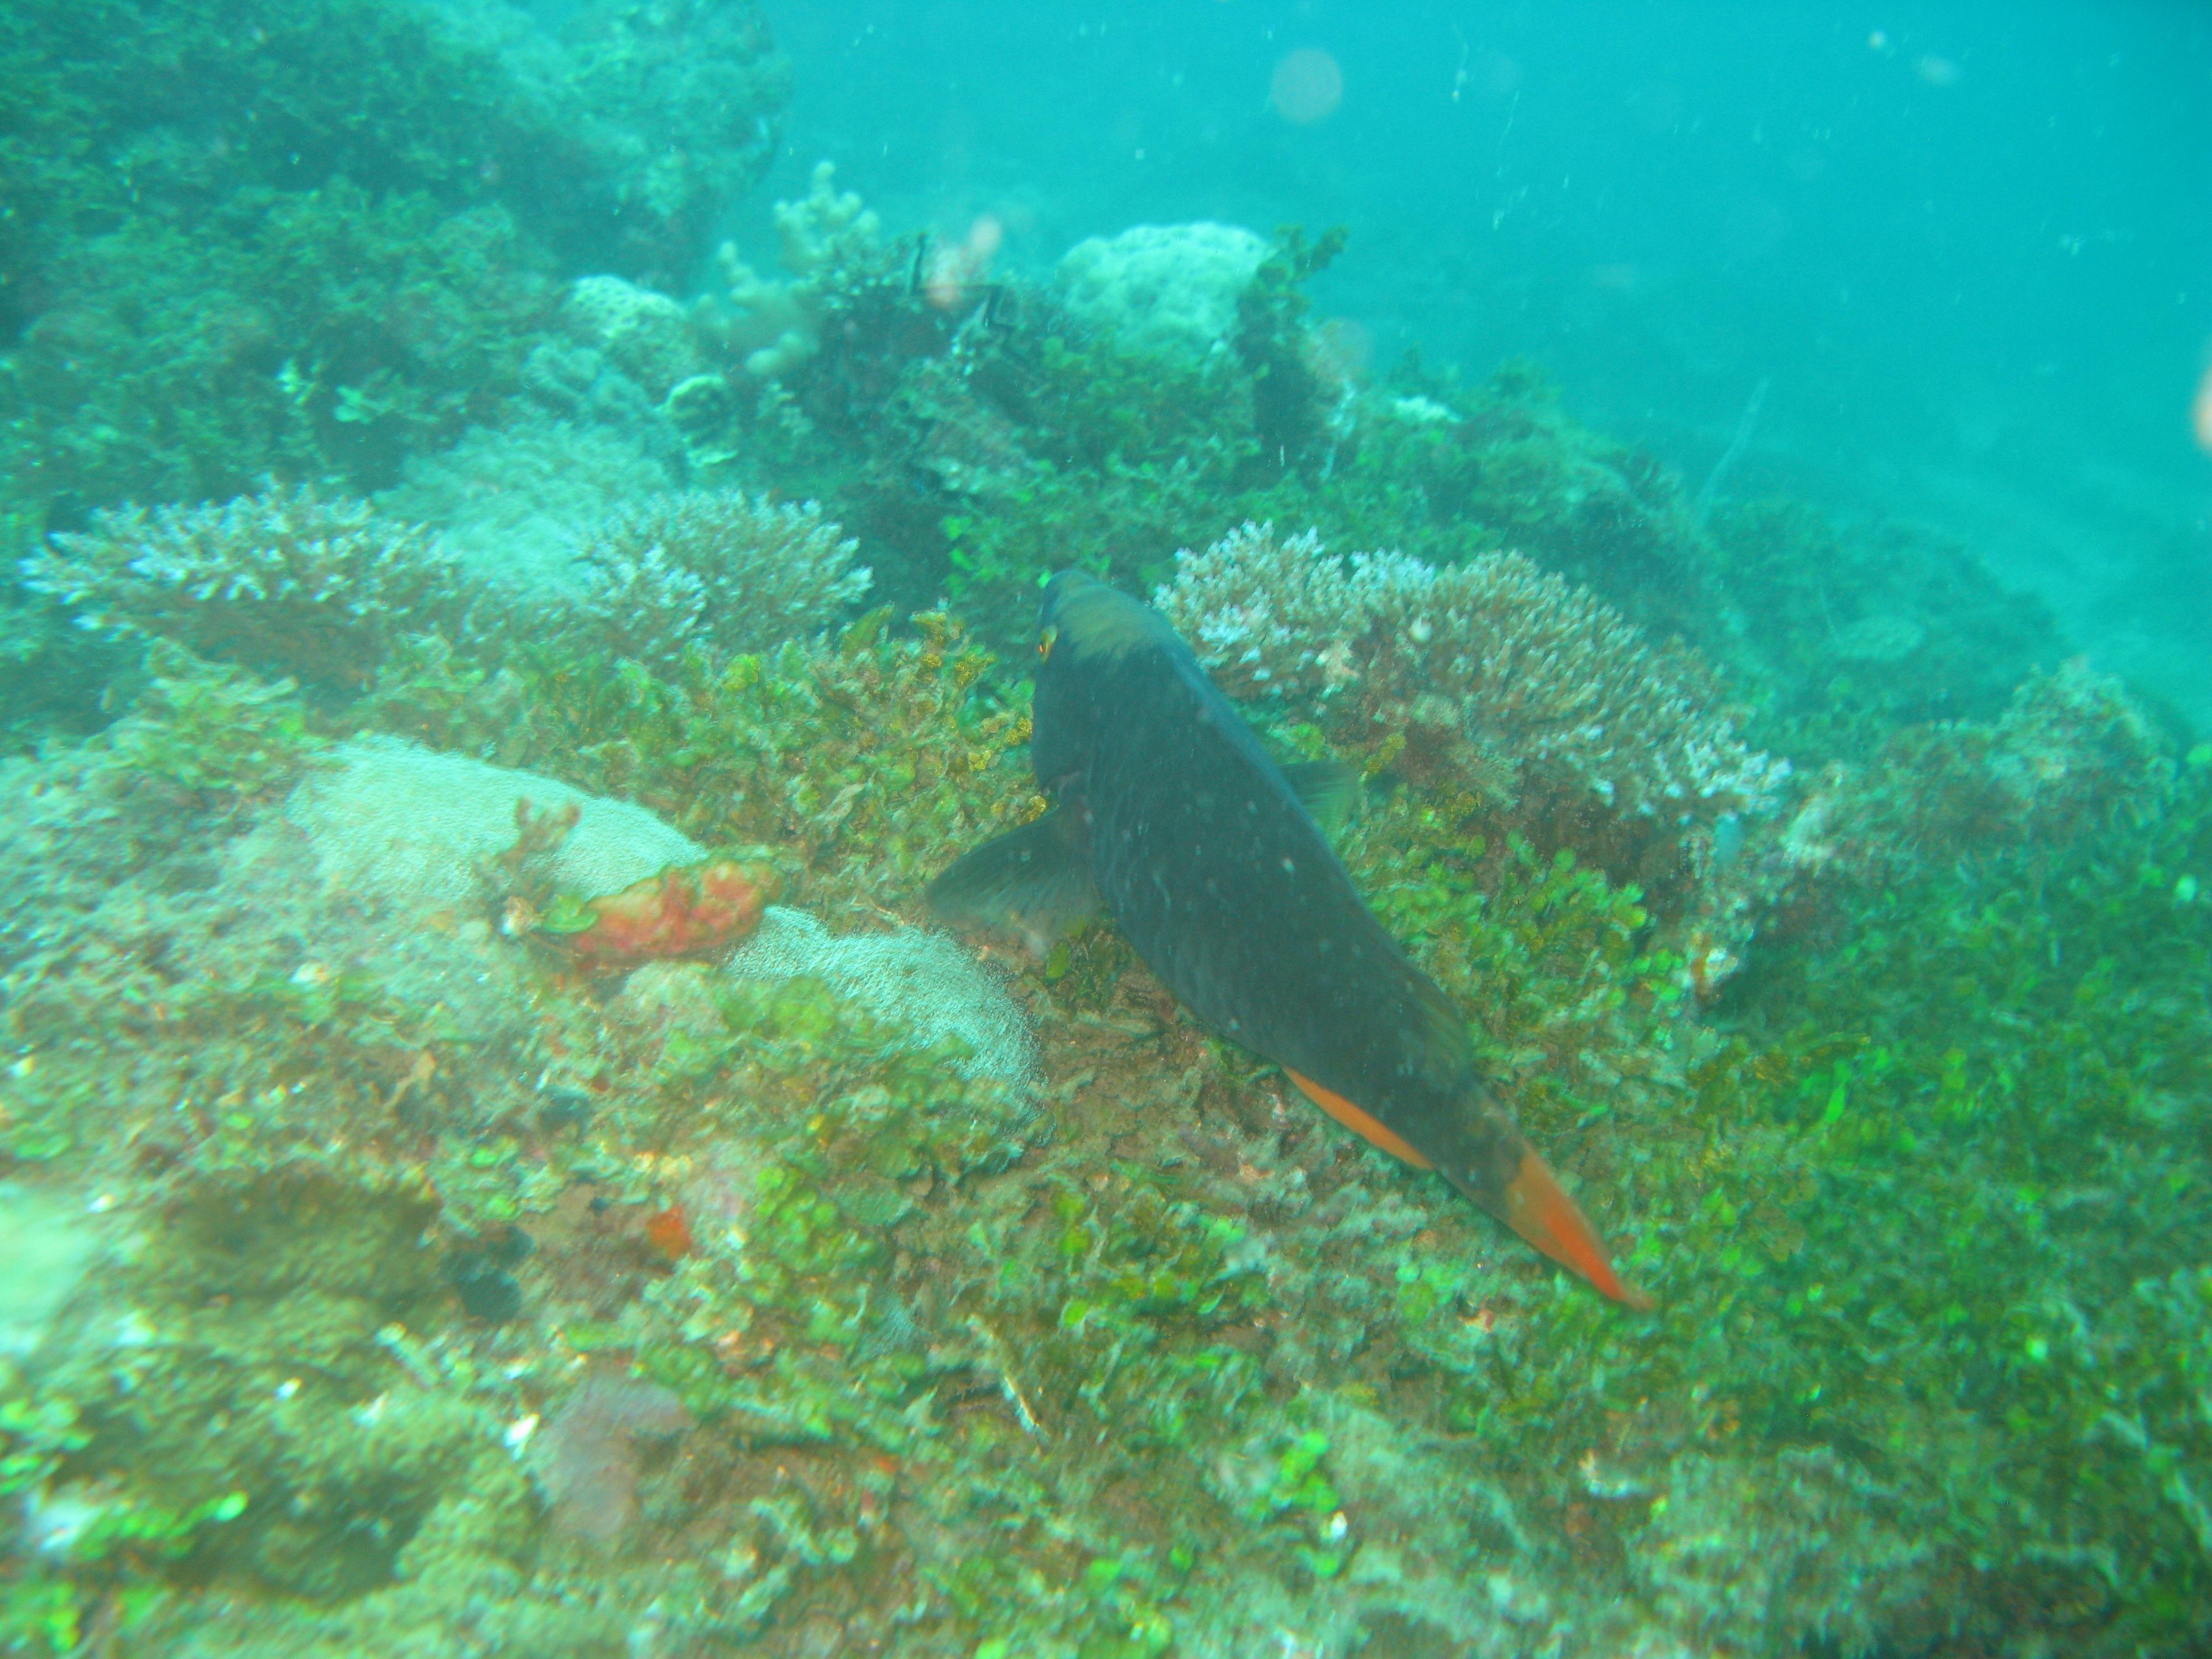Fish: (946, 537, 1651, 1326)
